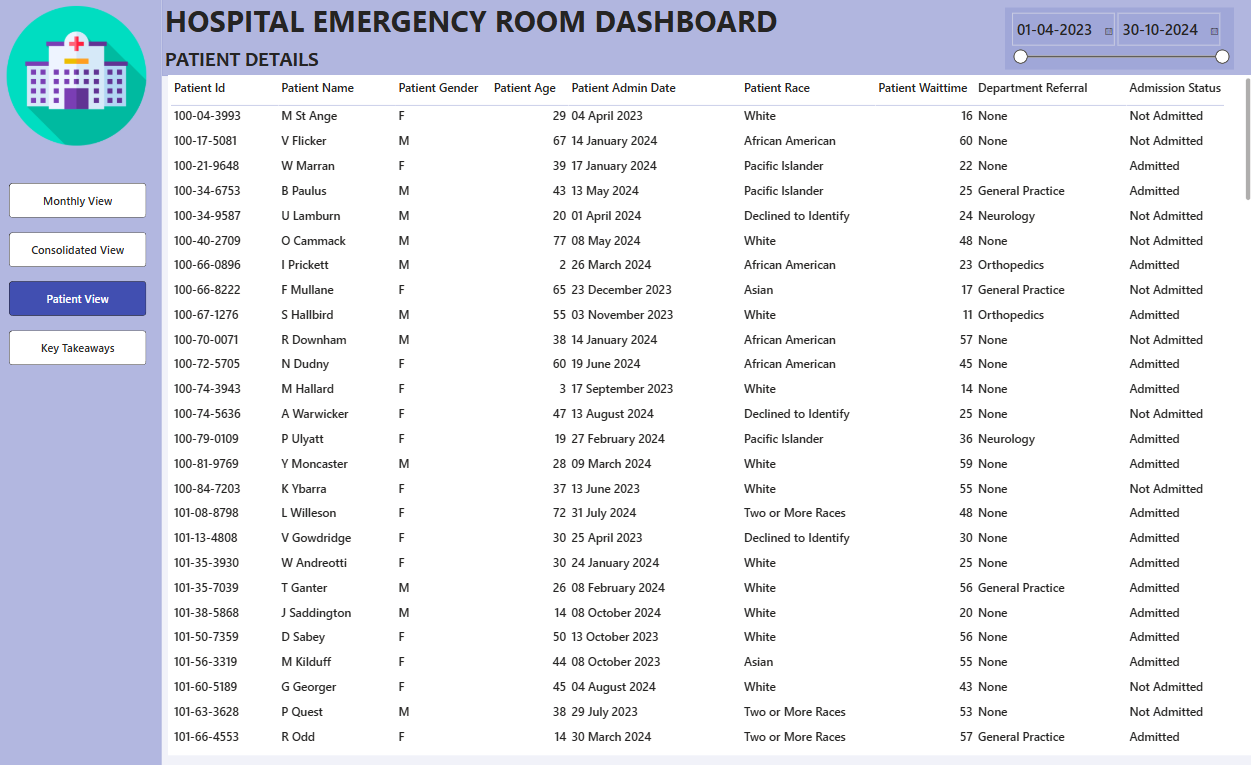

The dashboard page shown, as its layout file describes it:
{"tool":"powerbi","page":{"name":"Patient View","canvas":[2300,1400],"ordinal":2},"visuals":[{"type":"shape","box":[0,0,309.1,1400],"z":0},{"type":"shape","box":[309.4,3.1,1991,140.6],"z":1000},{"type":"textbox","box":[309.1,0,1657.6,115.2],"z":2000},{"type":"textbox","box":[309.4,84.4,478.1,59.4],"z":3000},{"type":"slicer","fields":{"Values":["Date Table.Date"]},"box":[1840.6,18.8,415.6,112.5],"z":4000},{"type":"tableEx","fields":{"Values":["Hospital ER_Data.Patient Id","Hospital ER_Data.Patient Full Name","Hospital ER_Data.Patient Gender","Sum(Hospital ER_Data.Patient Age)","Hospital ER_Data.Patient Admin Date","Hospital ER_Data.Patient Race","Sum(Hospital ER_Data.Patient Waittime)","Hospital ER_Data.Department Referral","Hospital ER_Data.Admission Status"]},"box":[321.2,142.8,1968.9,1234.3],"z":6000},{"type":"pageNavigator","box":[32.7,336.1,249.8,330.1],"z":7000},{"type":"image","box":[19,10.9,272.1,263.9],"z":7001}]}

Visuals, with their boxes in screenshot pixels (x1, y1, x2, y2), scaled from the page's 2300x1400 canvas onto the 1251x765 screenshot:
shape: box(0, 0, 168, 764)
shape: box(168, 2, 1250, 79)
textbox: box(168, 0, 1070, 63)
textbox: box(168, 46, 428, 79)
slicer - Date Table.Date: box(1001, 10, 1227, 72)
tableEx - Hospital ER_Data.Patient Id x Hospital ER_Data.Patient Full Name: box(175, 78, 1246, 752)
pageNavigator: box(18, 184, 154, 364)
image: box(10, 6, 158, 150)
